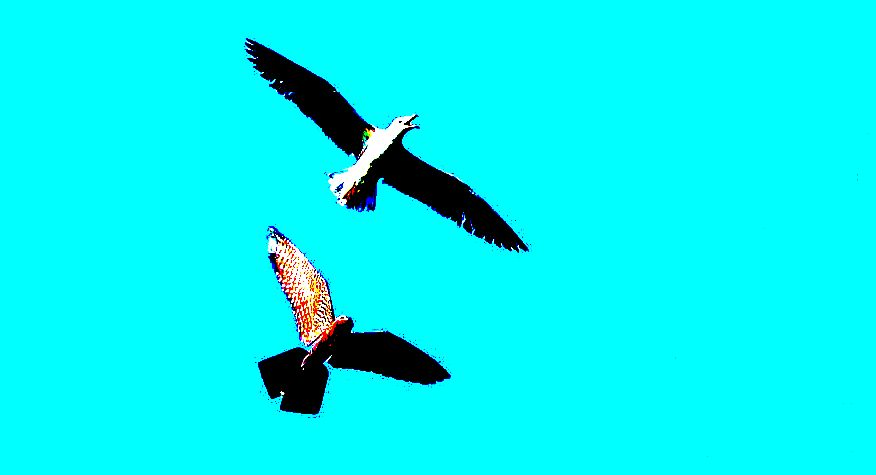Bird: (242, 31, 533, 261), (257, 214, 457, 421)
